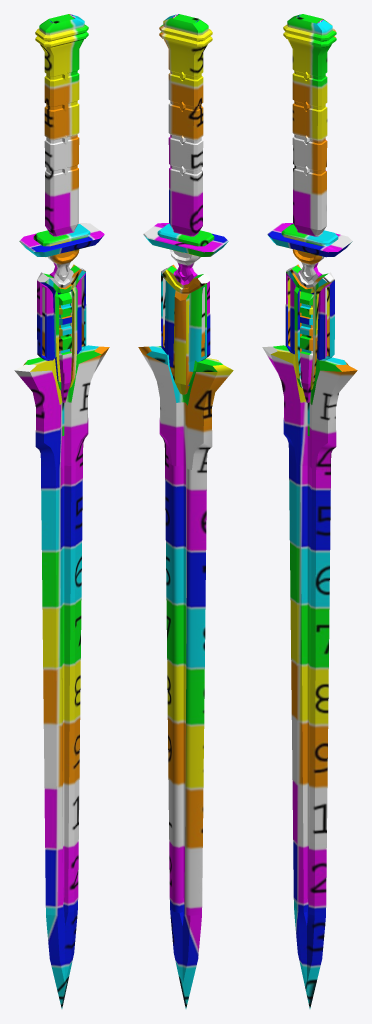
File: Sword_Texture_Set_3.fbx
3 renders of one model, left to right at view 1: azimuth 30°, elevation 25°; view 2: azimuth 150°, elevation 25°; view 3: azimuth 330°, elevation 25°, orthographic.
Visible parts, largest first — view 1: Sword1:Sword:Sword:Sword:pCube28; view 2: Sword1:Sword:Sword:Sword:pCube28; view 3: Sword1:Sword:Sword:Sword:pCube28.
Part boxes in pixels (bbox=[...]): Sword1:Sword:Sword:Sword:pCube28: bbox=[14, 14, 109, 1008]; Sword1:Sword:Sword:Sword:pCube28: bbox=[138, 14, 233, 1008]; Sword1:Sword:Sword:Sword:pCube28: bbox=[262, 14, 357, 1008].
Bounding box in the file's own units: 1.52 × 15.04 × 0.567.
